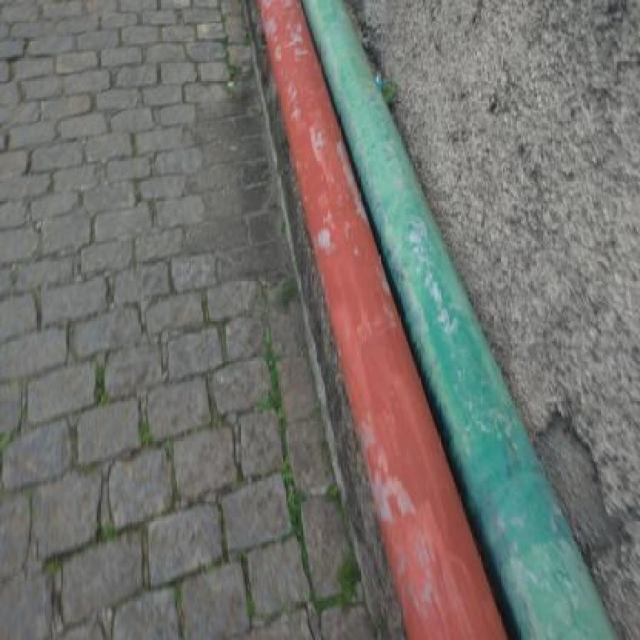gas: (307, 2, 623, 640), (258, 0, 508, 640)
